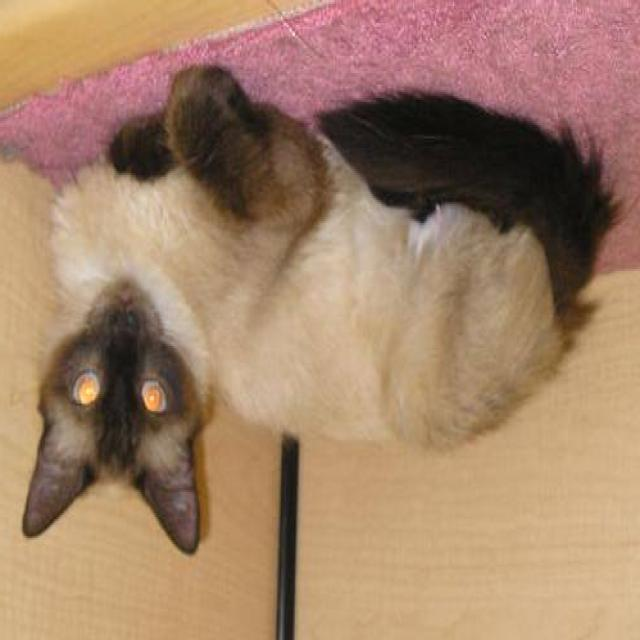Kucing: (10, 11, 604, 591)
